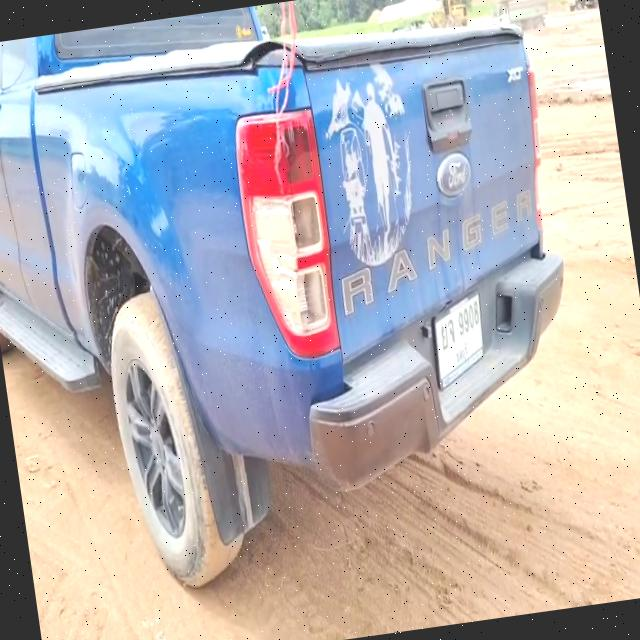Digit: (454, 298, 482, 336)
Licenseplate: (433, 285, 487, 393)
Provincename: (453, 340, 472, 365)
Thaichar: (438, 316, 457, 352)
